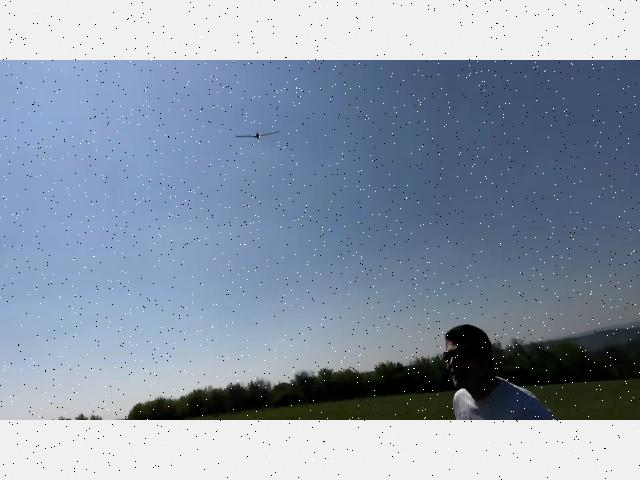Anti-Drone: (234, 128, 282, 140)
